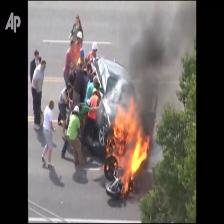fire: (113, 109, 148, 182)
smoke: (133, 20, 179, 108)
